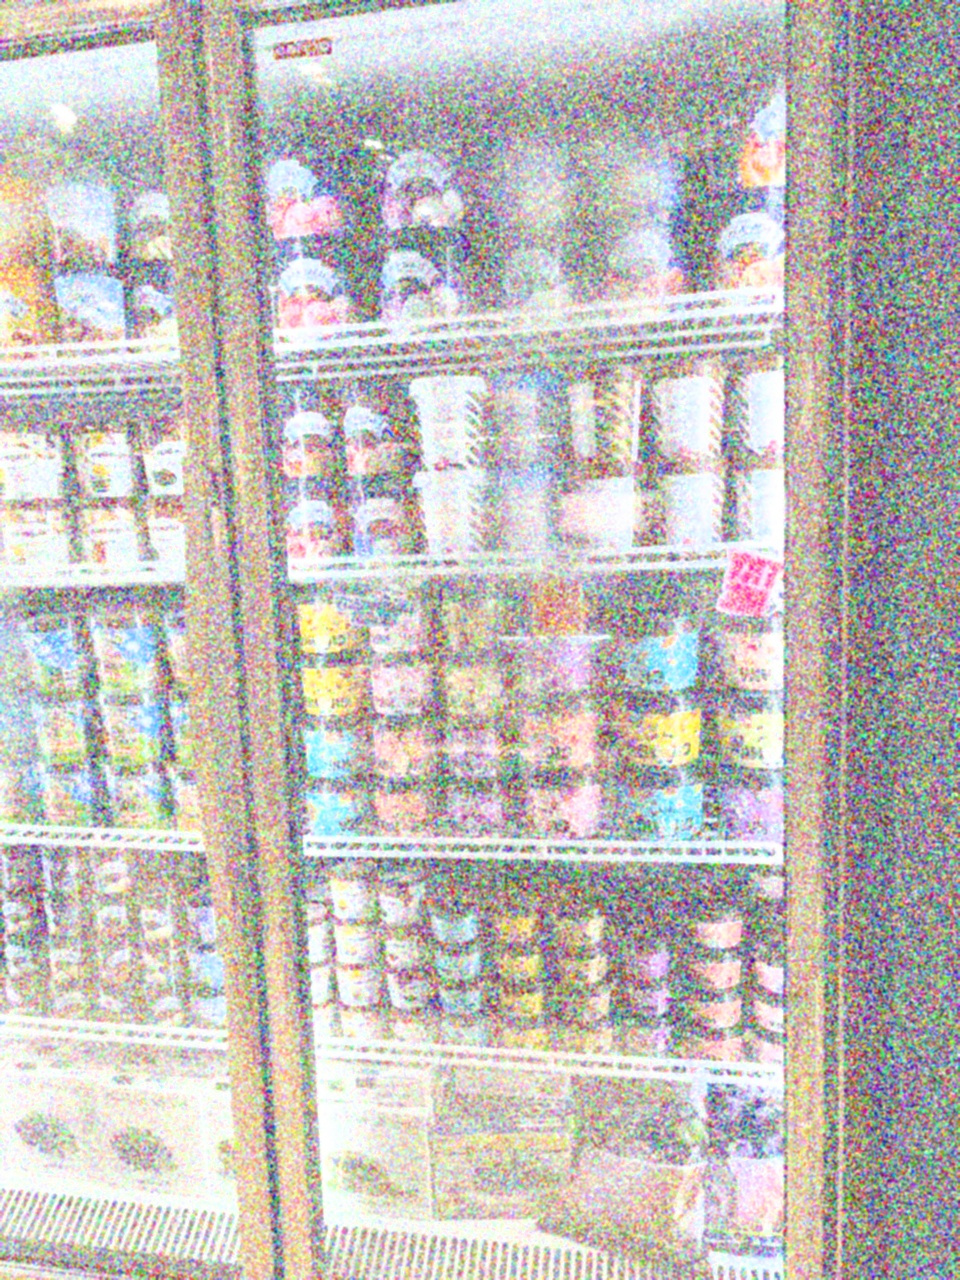Haagen-Dazs IceCream Tub: (128, 412, 209, 494), (65, 420, 142, 501), (72, 495, 147, 570), (1, 424, 74, 503), (0, 505, 75, 571), (135, 491, 187, 574), (375, 867, 431, 929), (327, 922, 385, 968), (331, 866, 374, 923), (333, 962, 378, 1009), (385, 962, 434, 1006), (385, 1008, 438, 1046), (341, 1004, 387, 1046), (379, 930, 429, 967)
